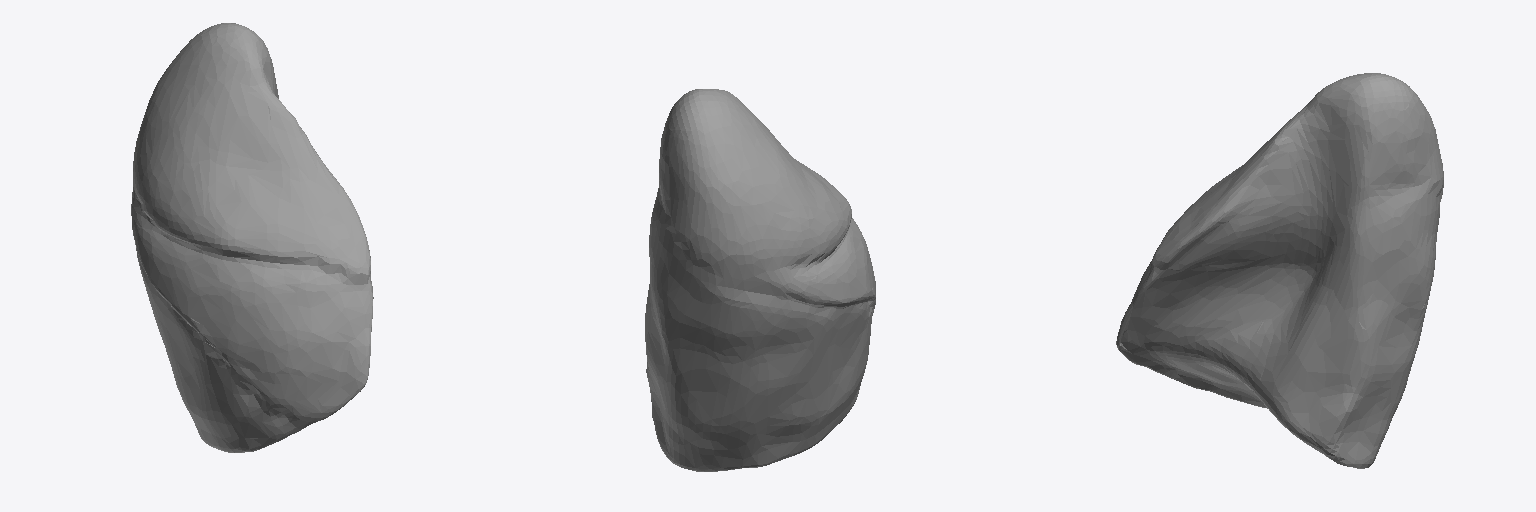
The model's file is organs_lung_right.obj.
3 views of the same model, side by side, from view 1: azimuth 30°, elevation 25°; view 2: azimuth 150°, elevation 25°; view 3: azimuth 270°, elevation 25° (orthographic).
Parts seen in each view (by area): view 1: Lung_right_polySurface1.002; view 2: Lung_right_polySurface1.002; view 3: Lung_right_polySurface1.002.
Boxes of the visible parts, x1=… form: Lung_right_polySurface1.002: x1=131, y1=23, x2=373, y2=452; Lung_right_polySurface1.002: x1=645, y1=89, x2=875, y2=471; Lung_right_polySurface1.002: x1=1116, y1=73, x2=1443, y2=468.
Size of the model in its own units: 12.67 by 25.48 by 19.78.